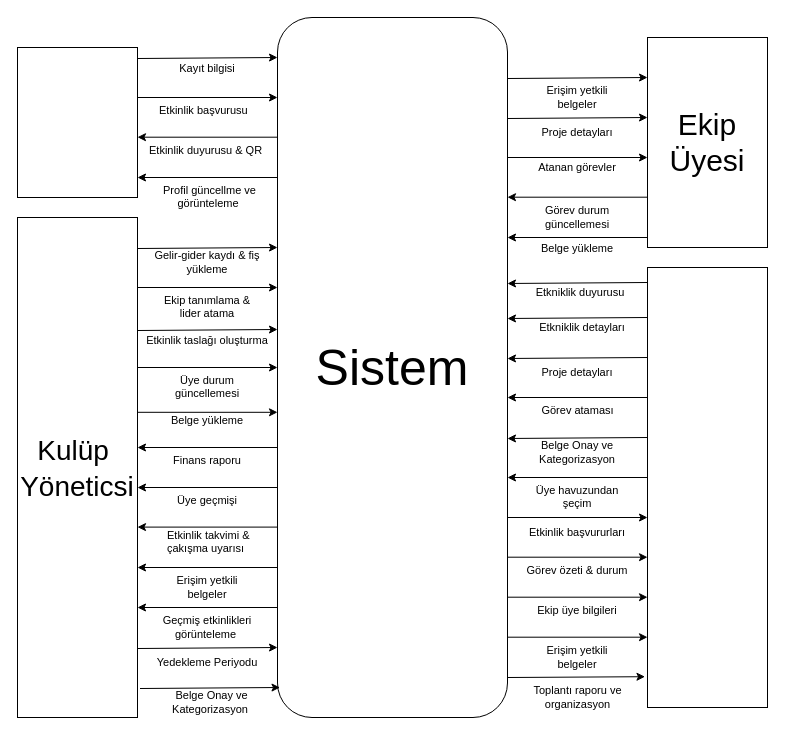
This 785x735 diagram has some shape labels left out. Each missing label, with the box of its shape:
Ekip Lideri: (646, 266, 768, 708)
Üye: (16, 46, 138, 198)
